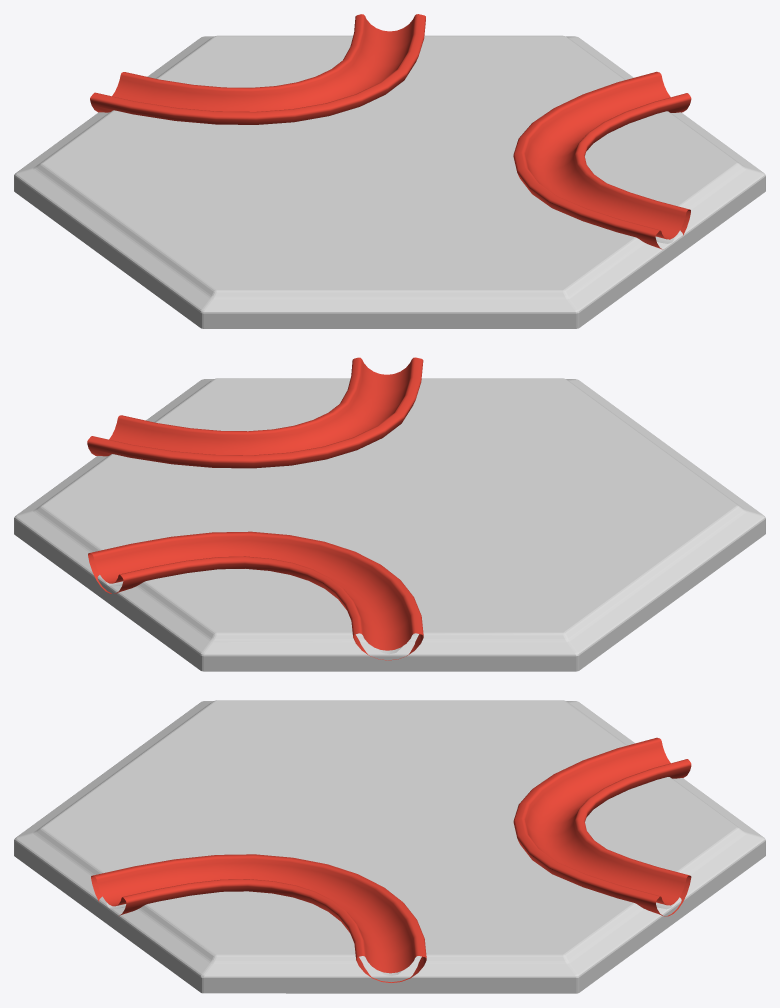
The model's file is tile_2corners_b.glb.
3 views of the same model, one above another, from view 1: azimuth 30°, elevation 25°; view 2: azimuth 150°, elevation 25°; view 3: azimuth 270°, elevation 25° (orthographic).
Visible parts, largest first — view 1: Tile_1corner.003; view 2: Tile_1corner.003; view 3: Tile_1corner.003.
Part boxes in pixels (box(x1,y1,x2,y2)): Tile_1corner.003: box(14, 14, 765, 328); Tile_1corner.003: box(14, 357, 765, 671); Tile_1corner.003: box(14, 700, 765, 993).
Size of the model in its own units: 1.74 by 0.1134 by 2.
